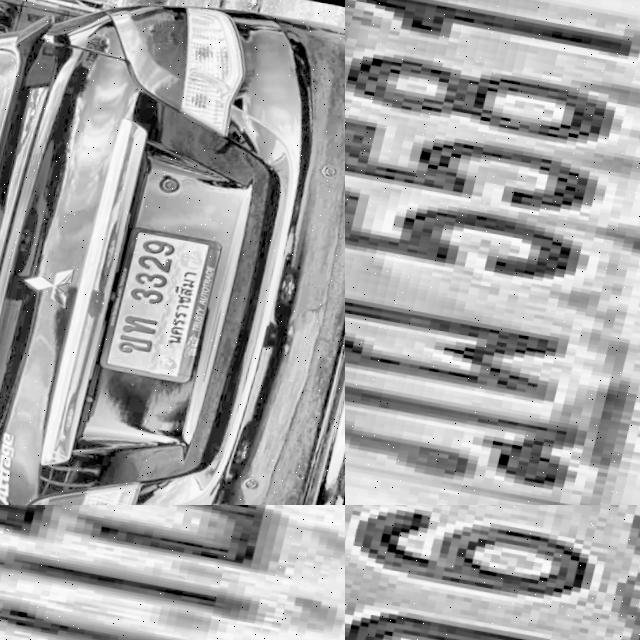license-plate: (345, 0, 640, 505), (0, 505, 345, 640), (345, 505, 640, 640), (100, 216, 233, 380)
